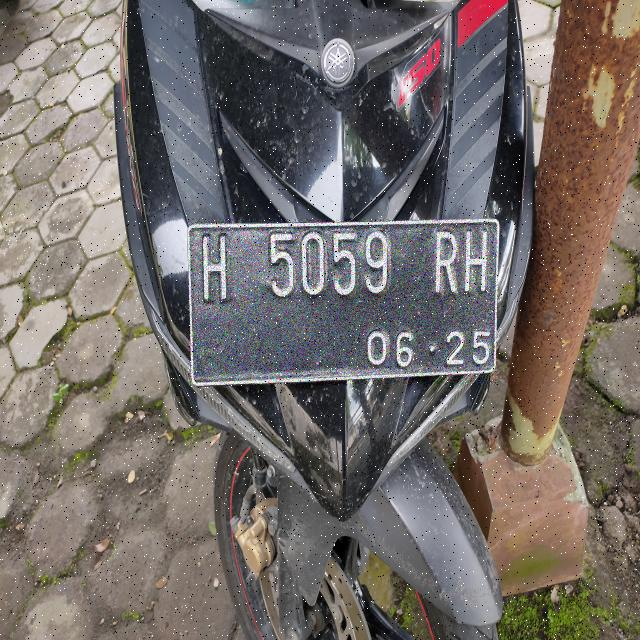plate: (189, 220, 497, 384)
